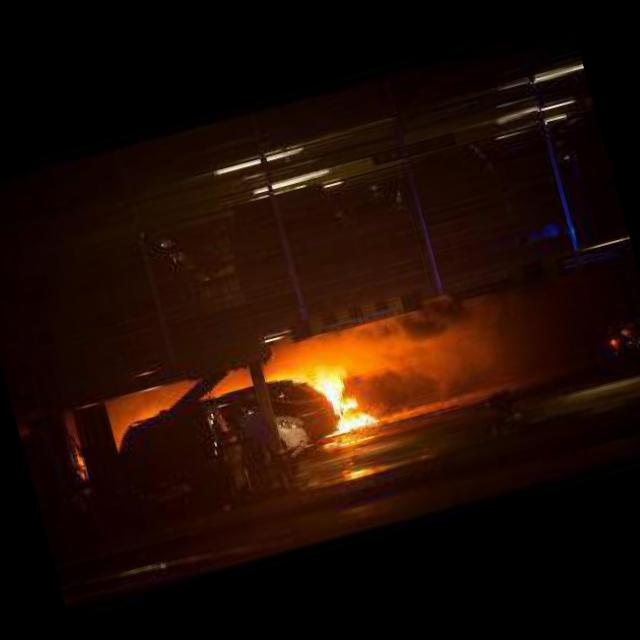fire: (310, 349, 378, 438), (608, 334, 618, 346)
smoke: (347, 286, 477, 357), (339, 344, 457, 420)
